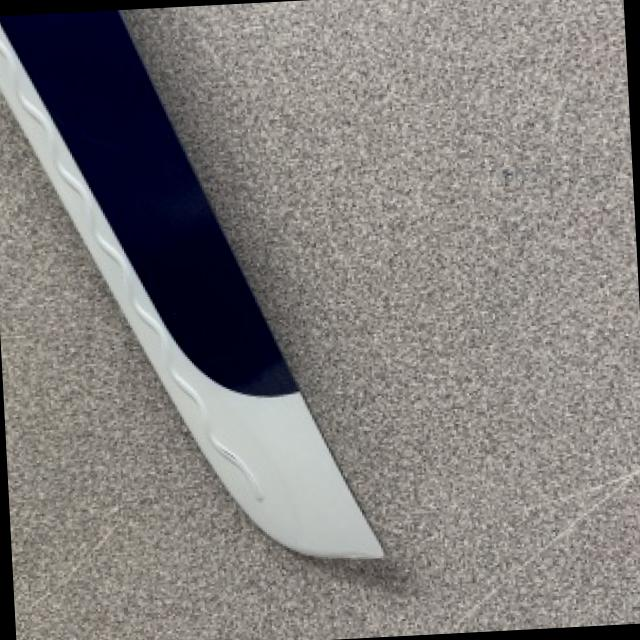healthy: (0, 10, 381, 554)
